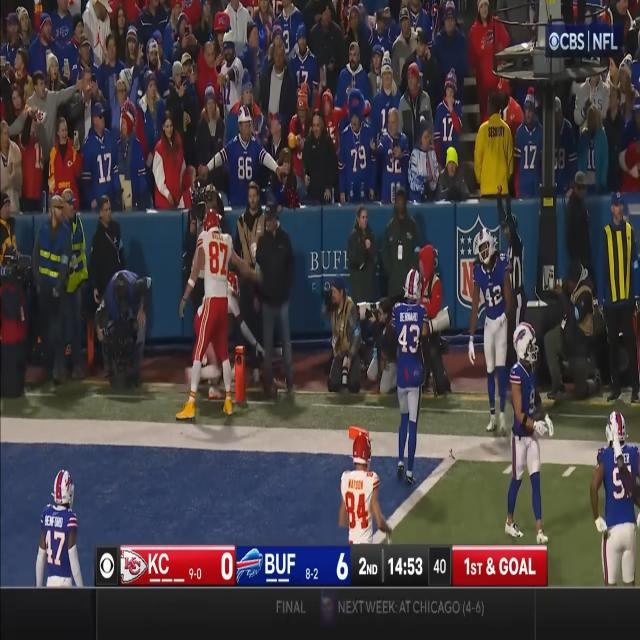Player: (506, 322, 549, 544), (194, 212, 234, 421), (596, 410, 640, 588), (392, 267, 428, 480), (474, 230, 509, 434), (38, 467, 84, 587), (341, 432, 385, 542)
